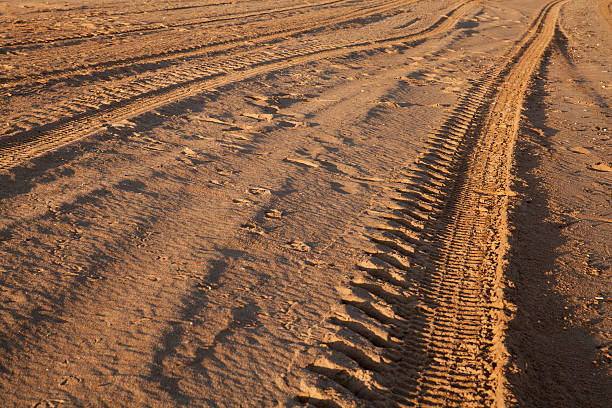vehicle_track: (297, 0, 563, 406), (0, 1, 476, 169), (0, 0, 413, 91), (0, 0, 351, 52), (597, 0, 611, 28)
